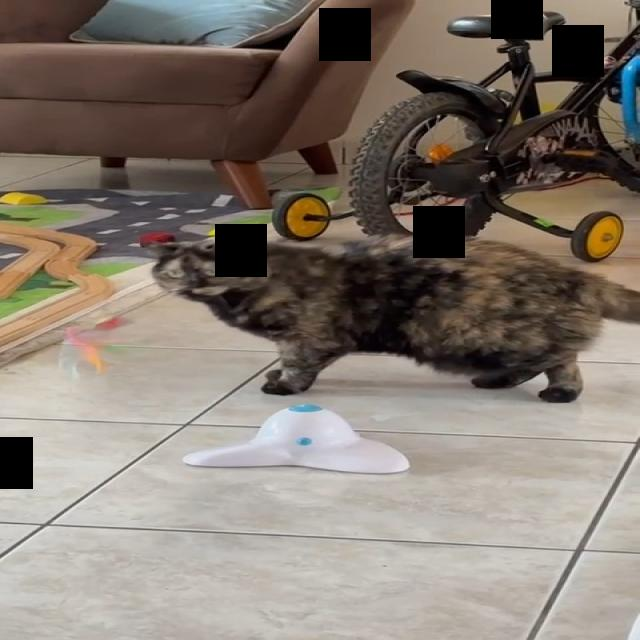authorized: (146, 232, 638, 403)
